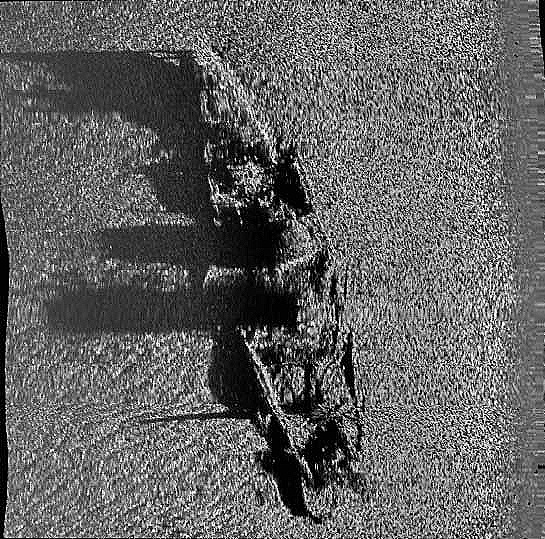ship: (193, 32, 373, 525)
